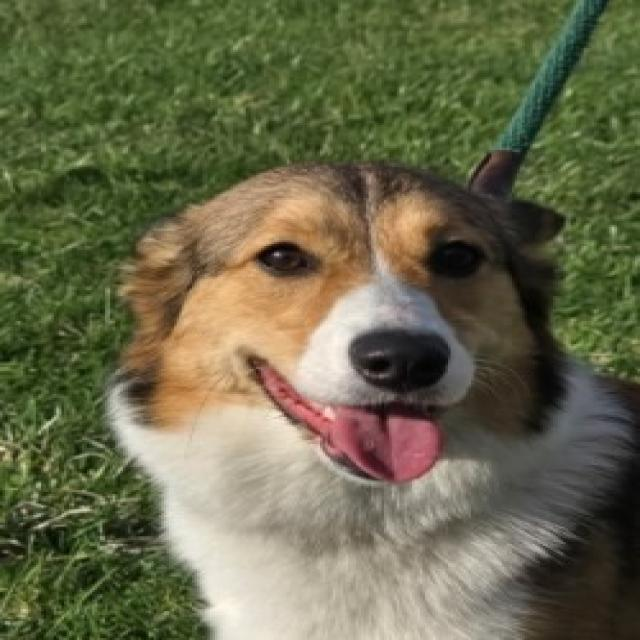corgi_dog: (79, 133, 590, 533)
